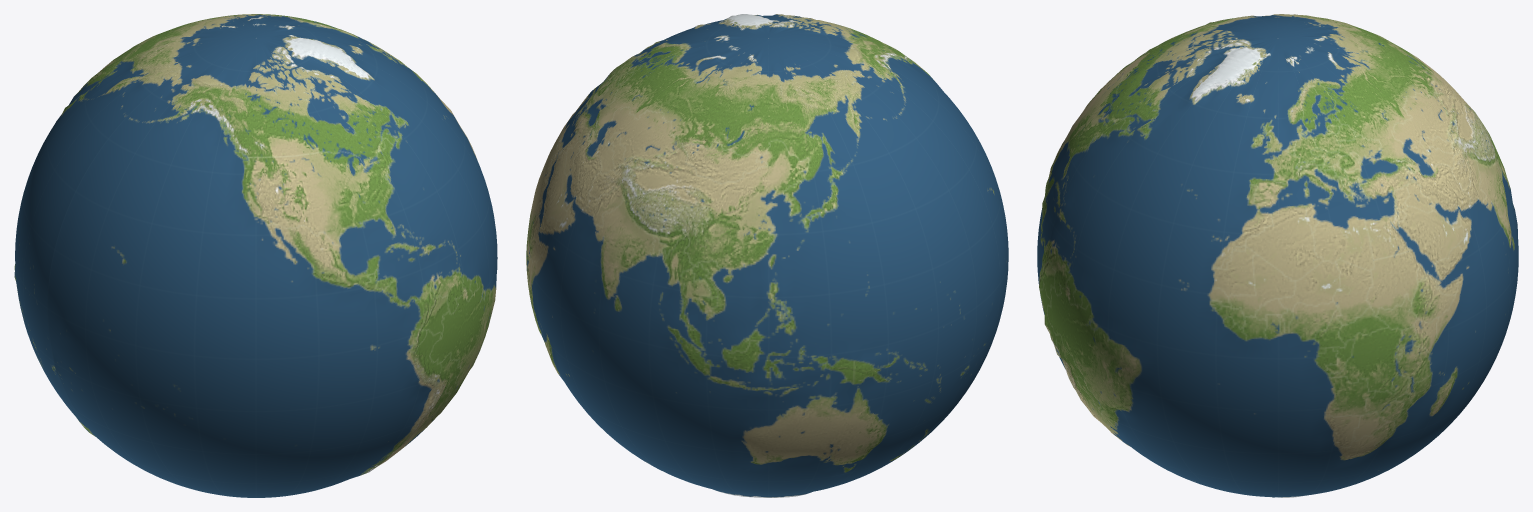
The model's file is SM_Earth_LOD1.fbx.
3 views of the same model, side by side, from view 1: azimuth 30°, elevation 25°; view 2: azimuth 150°, elevation 25°; view 3: azimuth 270°, elevation 25° (orthographic).
Parts seen in each view (by area): view 1: SM_Earth_LOD1; view 2: SM_Earth_LOD1; view 3: SM_Earth_LOD1.
Boxes of the visible parts, left/top/right/bottom form: SM_Earth_LOD1: left=14, top=14, right=497, bottom=497; SM_Earth_LOD1: left=526, top=14, right=1008, bottom=497; SM_Earth_LOD1: left=1037, top=14, right=1518, bottom=497.
Bounding box in the file's own units: 2 × 2 × 2.01.
Materials: 1 (1 with a texture image).
